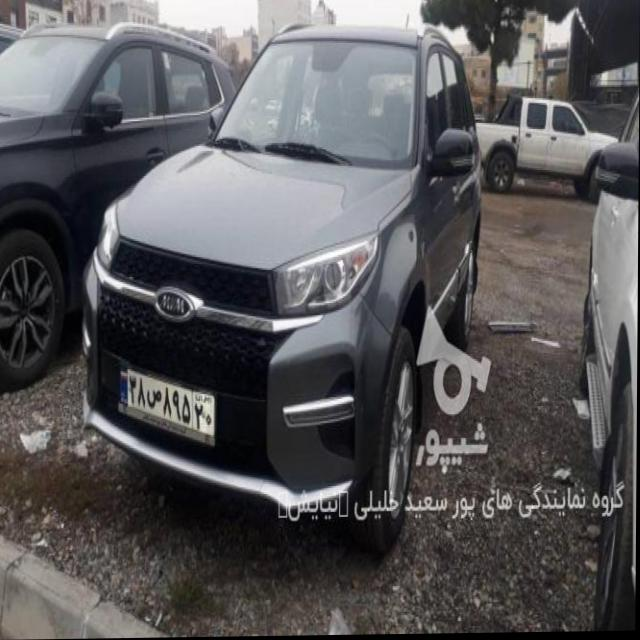licence: (115, 365, 220, 439)
